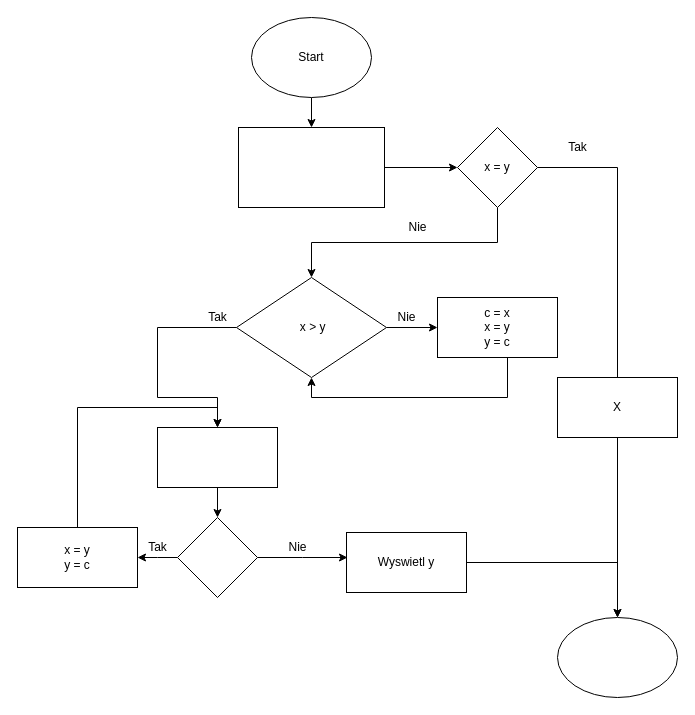
The diagram is 695 pixels wide and 715 high, and some of its shapes have lost their labels. The shapes that lost their labels are listed below. From the top down, each one's centre as x and y in pixels, then its label:
At (311,167): "podaj x podaj y".
At (217,457): "c = x mod y".
At (217,557): "c > 0".
At (617,657): "Stop".
